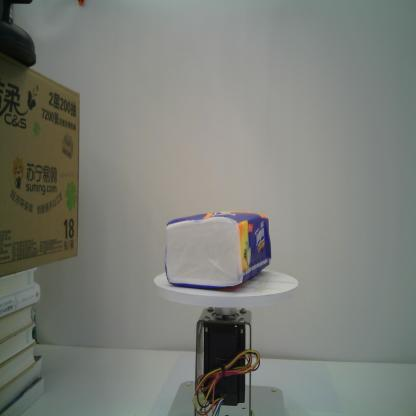Tissue: (164, 210, 272, 288)
